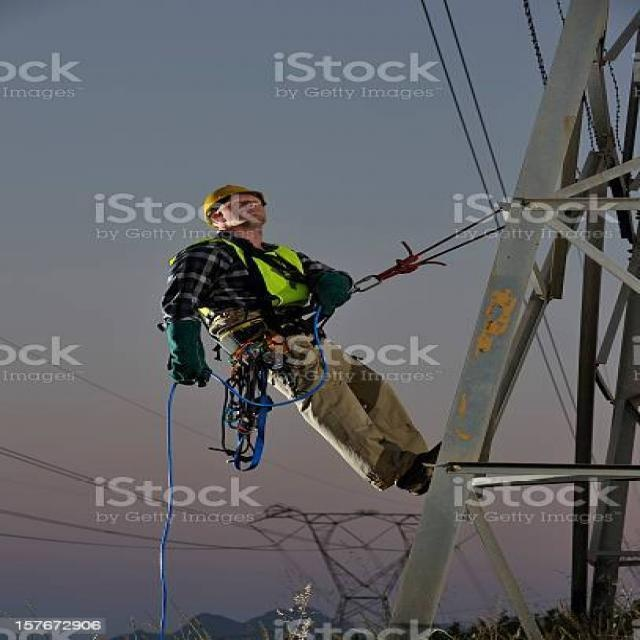Arnes_seguridad: (174, 230, 358, 343)
